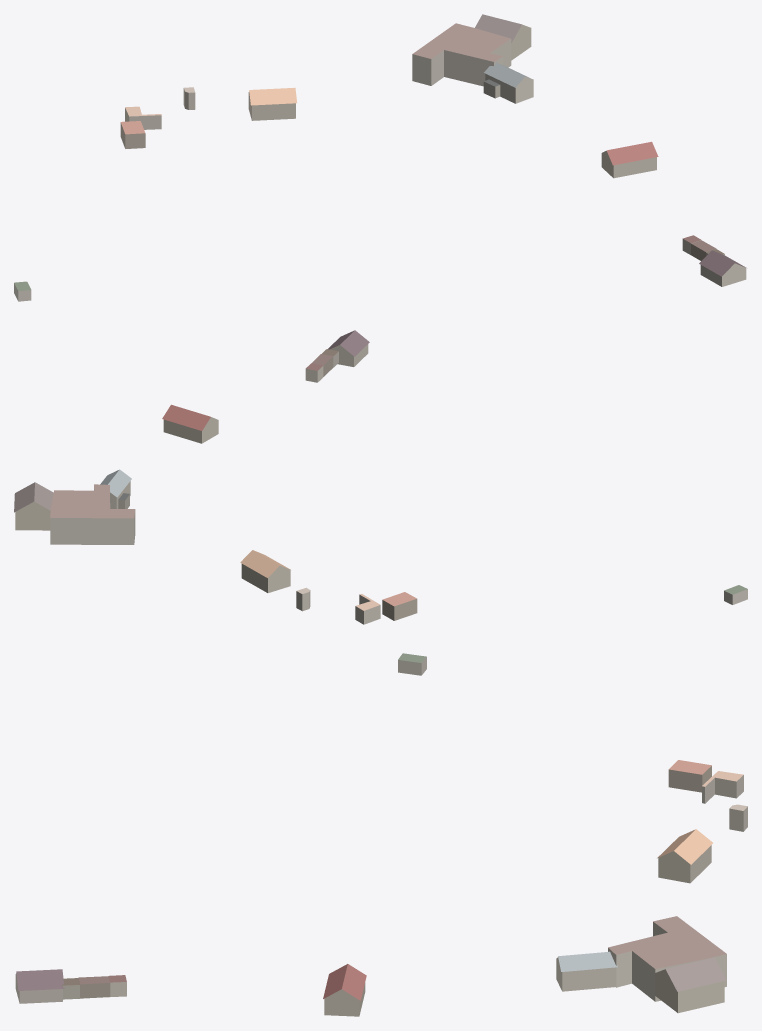
3 views of the same model, one above another, from view 1: azimuth 30°, elevation 25°; view 2: azimuth 150°, elevation 25°; view 3: azimuth 270°, elevation 25° (orthographic). The views are drawn at different scales.
Visible parts, largest first — view 1: tuile; view 2: tuile; view 3: tuile.
Boxes of the visible parts, <box> form: tuile: <box>14,14,746,301</box>; tuile: <box>14,330,747,624</box>; tuile: <box>15,653,747,1016</box>.
Bounding box in the file's own units: 215 × 16.23 × 180.
